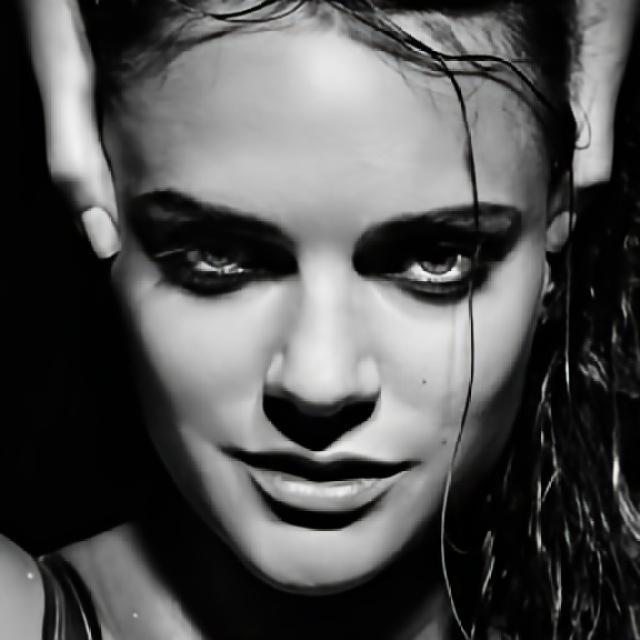content: (104, 0, 546, 603)
